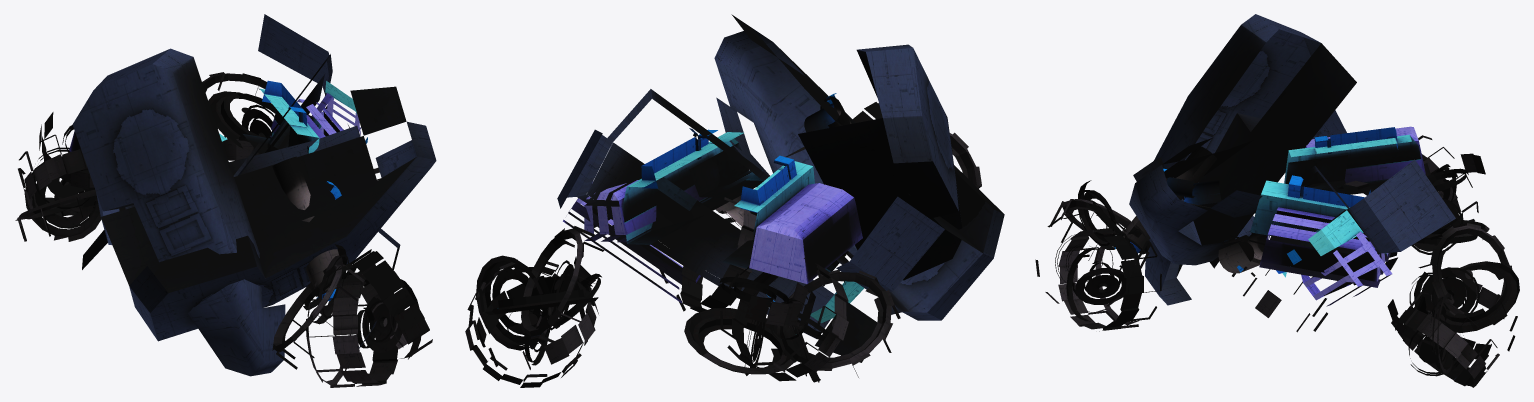
The model's file is PlayerA_Die15.obj.
3 views of the same model, side by side, from view 1: azimuth 30°, elevation 25°; view 2: azimuth 150°, elevation 25°; view 3: azimuth 270°, elevation 25° (orthographic). The views are drawn at different scales.
Visible parts, largest first — view 1: Object001; view 2: Object001; view 3: Object001.
Part boxes in pixels (x1,y1,x2,y2): Object001: (15, 14, 436, 387); Object001: (465, 14, 1004, 387); Object001: (1035, 14, 1519, 387).
Bounding box in the file's own units: 146 × 114 × 191.
Materials: 1 (1 with a texture image).
